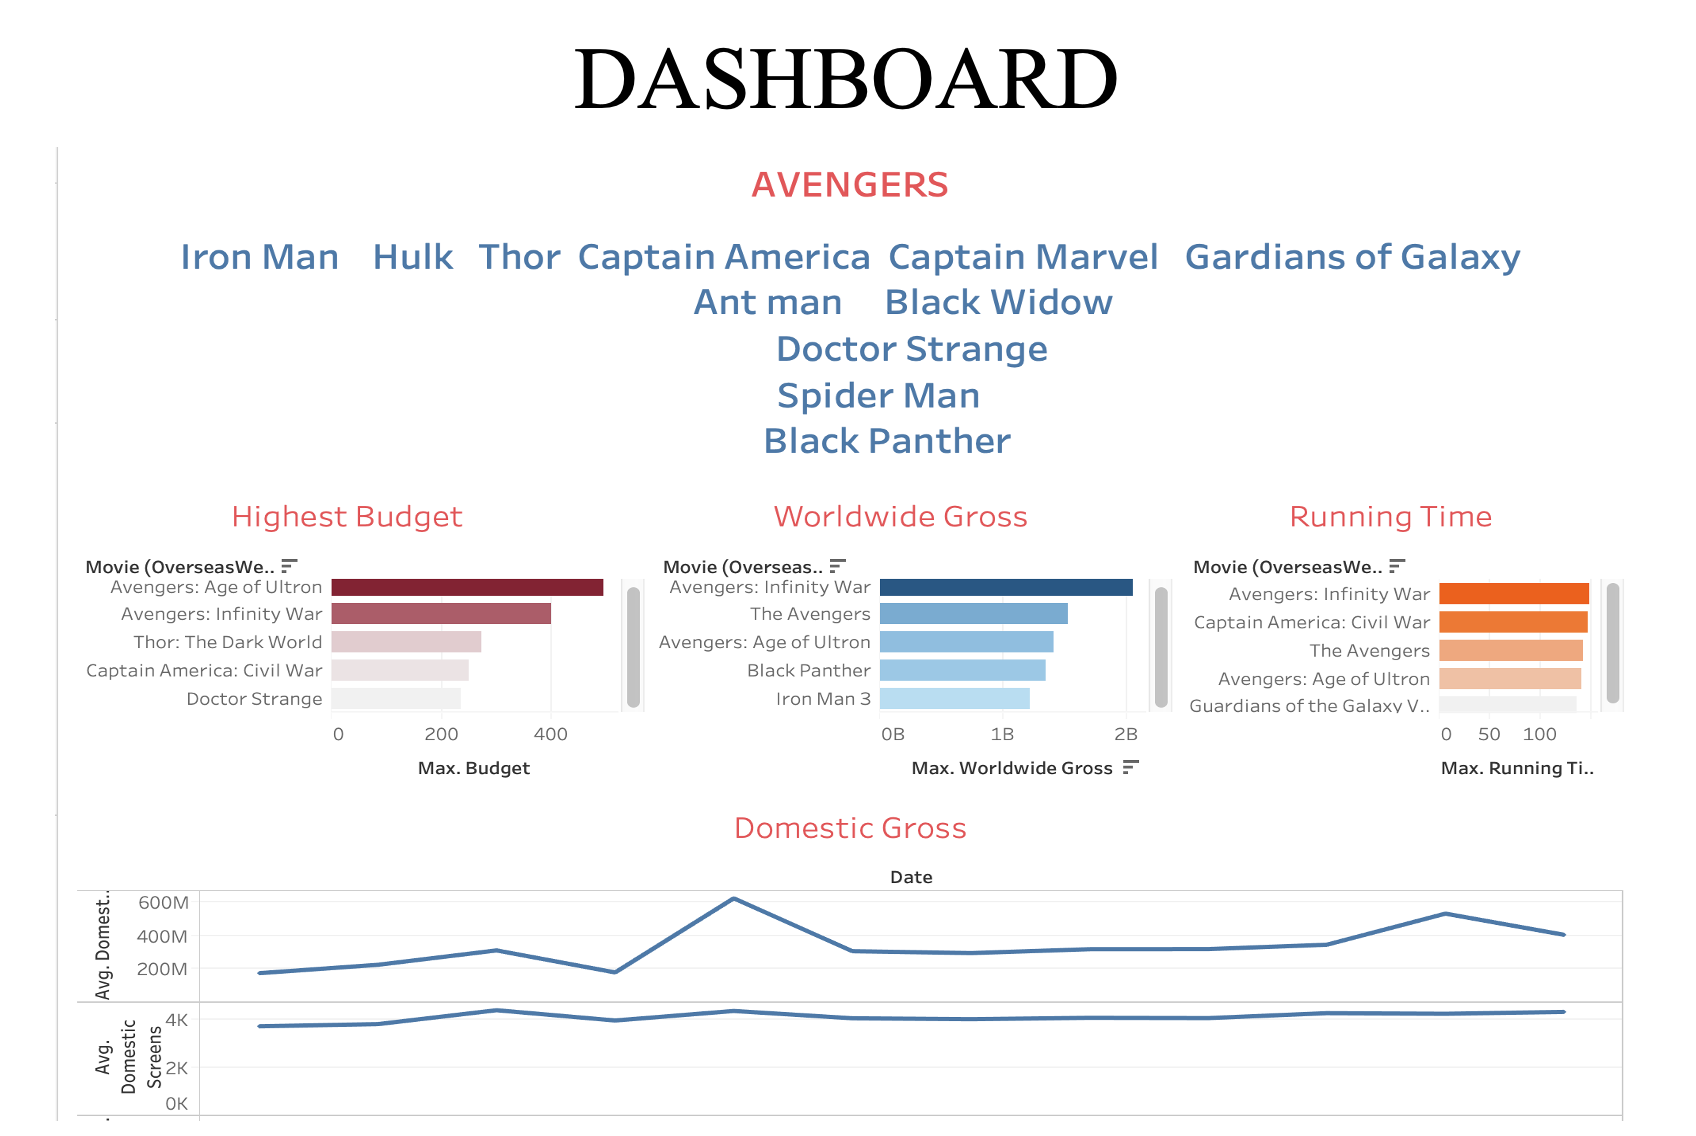

Layout of this report page (visuals, bound fields, positions):
{"tool":"tableau","page":{"name":"Dashboard 1","canvas":[1000,800],"ordinal":0},"visuals":[{"type":"title","box":[8,8,984,41]},{"type":"text","box":[8,49,984,192]},{"type":"worksheet","title":"Budget","mark":"Automatic","rows":["Movie (OverseasWeekend.csv)"],"cols":["Budget"],"box":[8,241,366,219.5]},{"type":"worksheet","title":"worldwide gross","mark":"Automatic","rows":["Movie (OverseasWeekend.csv)"],"cols":["WorldwideGross"],"box":[374,241,333.4,219.5]},{"type":"worksheet","title":"Running Time","mark":"Automatic","rows":["Movie (OverseasWeekend.csv)"],"cols":["RunningTime"],"box":[707.4,241,284.6,219.5]},{"type":"worksheet","title":"Gross","mark":"Automatic","rows":["DomesticGross","DomesticScreens","OverseasGross"],"cols":["Date"],"box":[8,460.5,984,331.5]}]}

Visuals, with their boxes on the page's 1000x800 design canvas (x1, y1, x2, y2). These are canvas units, not pixel positions in the 1696x1136 screenshot, which may show the page scaled, cropped or inside an application window:
title: (8, 8, 992, 49)
text: (8, 49, 992, 241)
"Budget" worksheet: (8, 241, 374, 460)
"worldwide gross" worksheet: (374, 241, 707, 460)
"Running Time" worksheet: (707, 241, 992, 460)
"Gross" worksheet: (8, 460, 992, 792)
